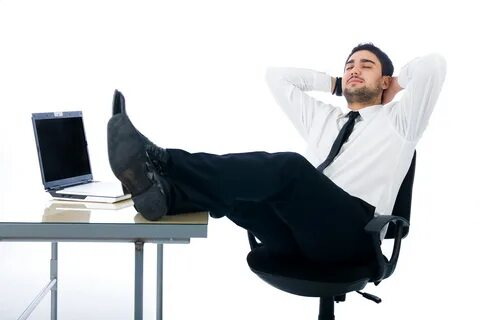sleep: (162, 39, 446, 267)
